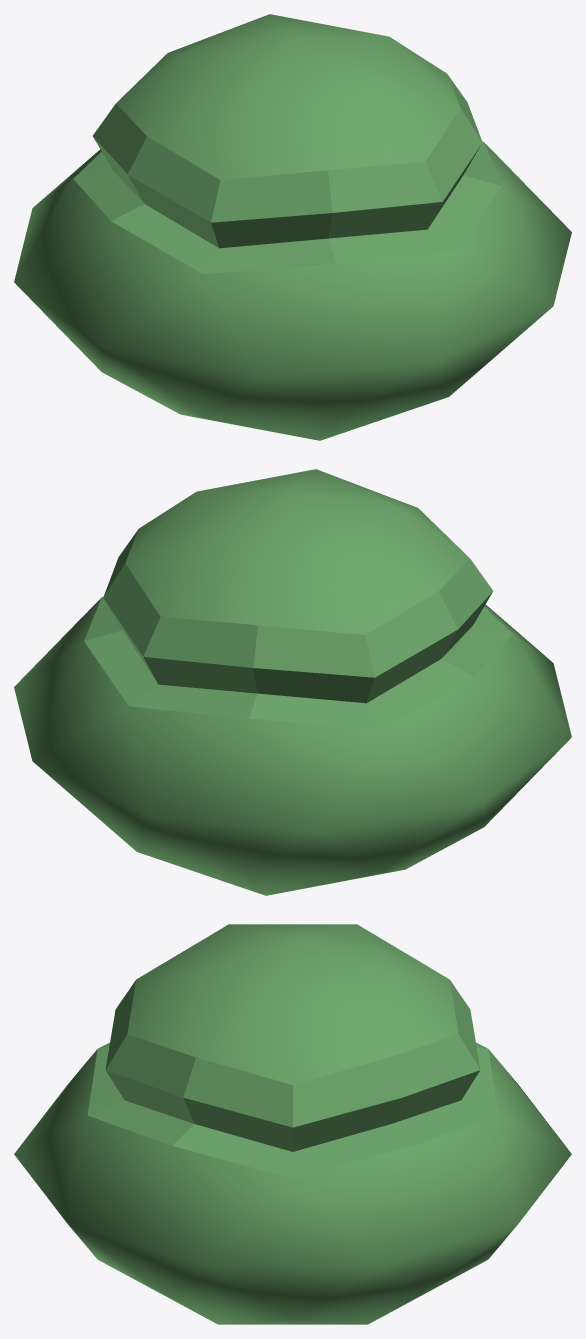
The model's file is Bush.FBX.
The picture shows the model from 3 angles, top to bottom: view 1: azimuth 30°, elevation 25°; view 2: azimuth 150°, elevation 25°; view 3: azimuth 270°, elevation 25°; orthographic projection. The views are drawn at different scales.
Parts seen in each view (by area): view 1: Bush; view 2: Bush; view 3: Bush.
Part boxes in pixels (x1,y1,x2,y2): Bush: (14, 14, 571, 440); Bush: (14, 469, 571, 895); Bush: (14, 924, 571, 1324).
Bounding box in the file's own units: 50.26 × 38.09 × 52.84.
Materials: 1 (1 with a texture image).
